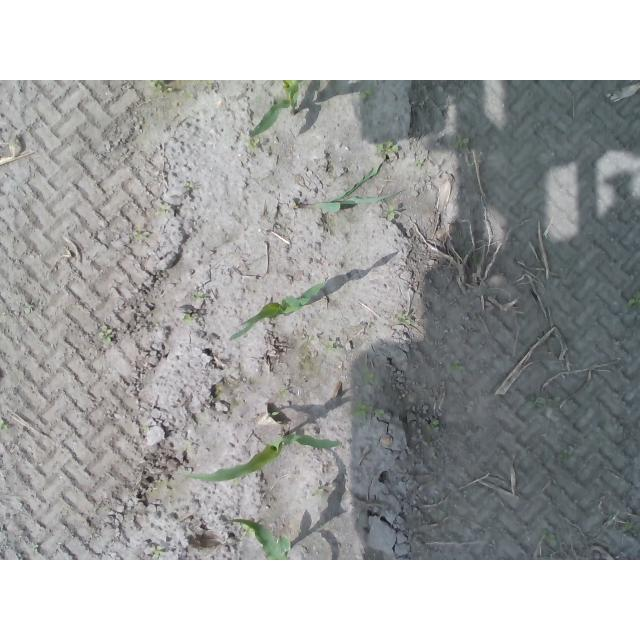Maize: (181, 429, 339, 483), (283, 158, 398, 214), (229, 279, 331, 342), (246, 80, 302, 138), (224, 516, 292, 561)
Weeds: (356, 400, 386, 417), (374, 140, 400, 157), (148, 80, 172, 93), (98, 326, 113, 344), (454, 137, 471, 152), (622, 519, 640, 532), (626, 295, 640, 310), (245, 141, 261, 152), (384, 207, 397, 220), (449, 361, 463, 372), (400, 313, 413, 324), (151, 549, 162, 560), (183, 315, 193, 326), (313, 487, 323, 497), (415, 160, 426, 169), (267, 411, 279, 418), (324, 346, 336, 352), (432, 419, 440, 426), (143, 425, 150, 432)
